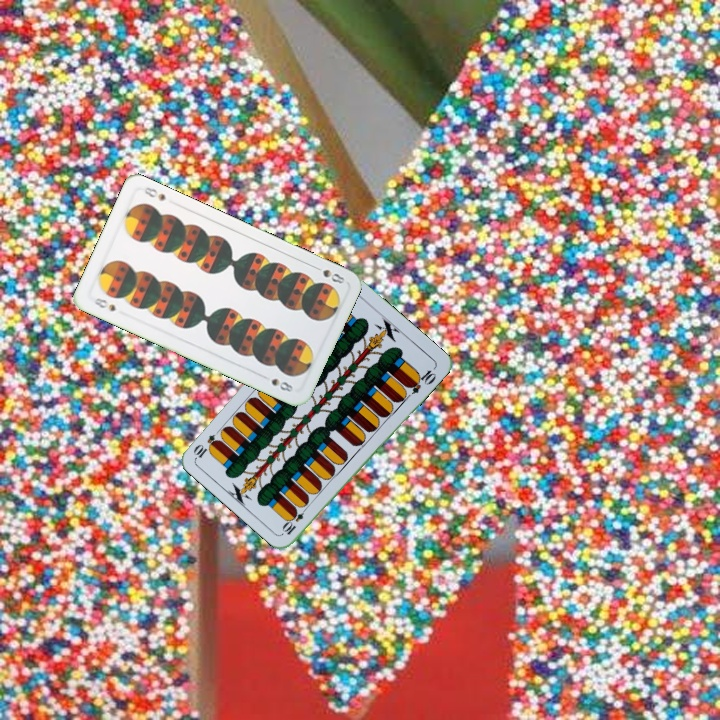E10: (279, 501, 311, 537)
S8: (309, 262, 347, 286), (88, 294, 118, 314)
